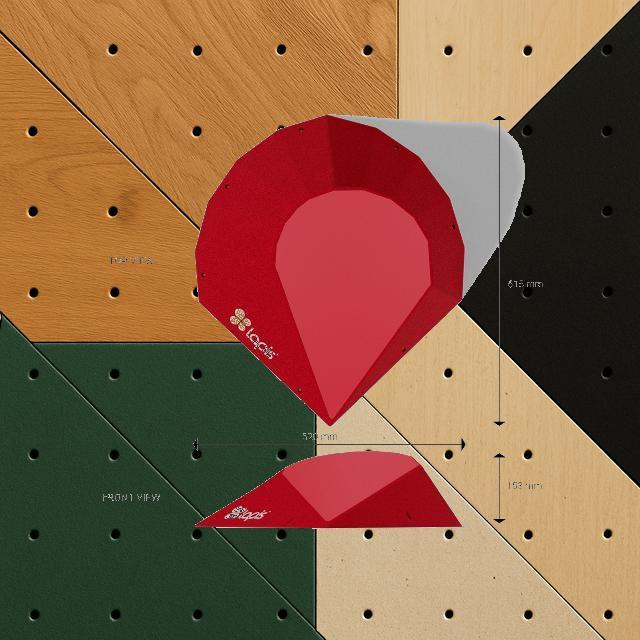Volume: (194, 114, 466, 428), (194, 449, 463, 528)
